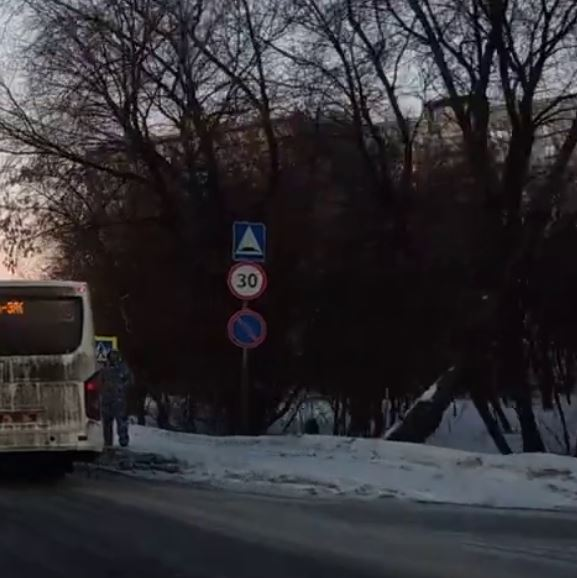30 Km Hiz Siniri: (223, 262, 275, 300)
